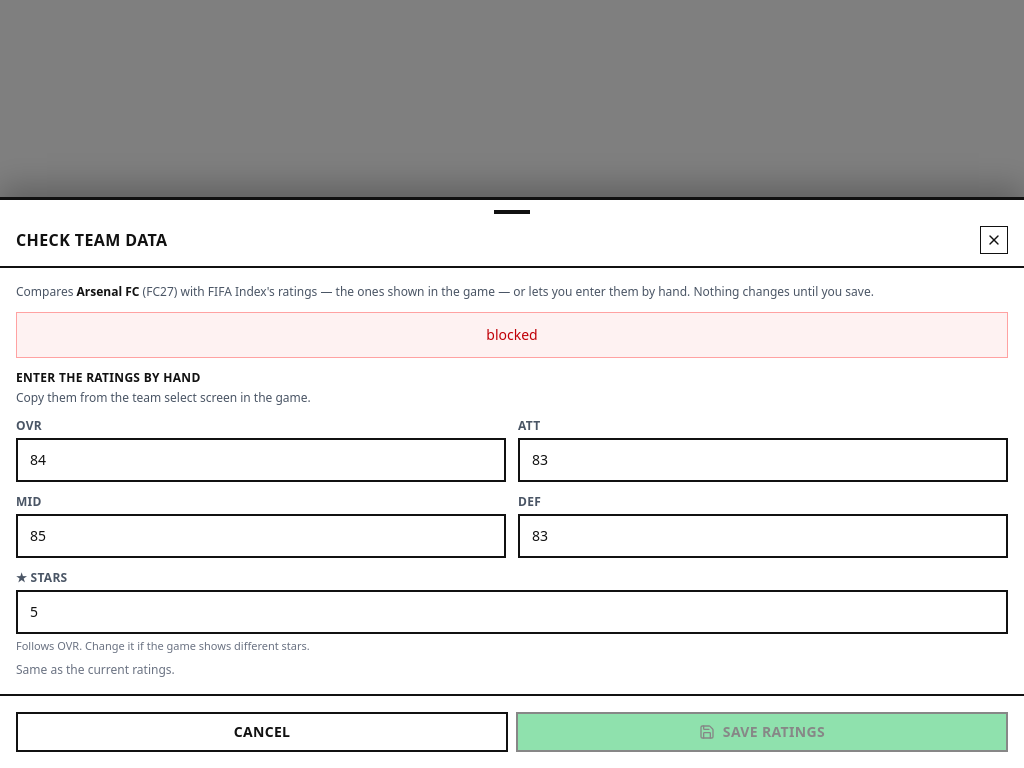
Scenario: TeamDataCheckSheet › rejects ratings outside 0-99
The width and height of the screenshot is (1024, 768).
Replace the text in the number field labelled "ATT" with "120" at (763, 460), box [518, 438, 1008, 482]
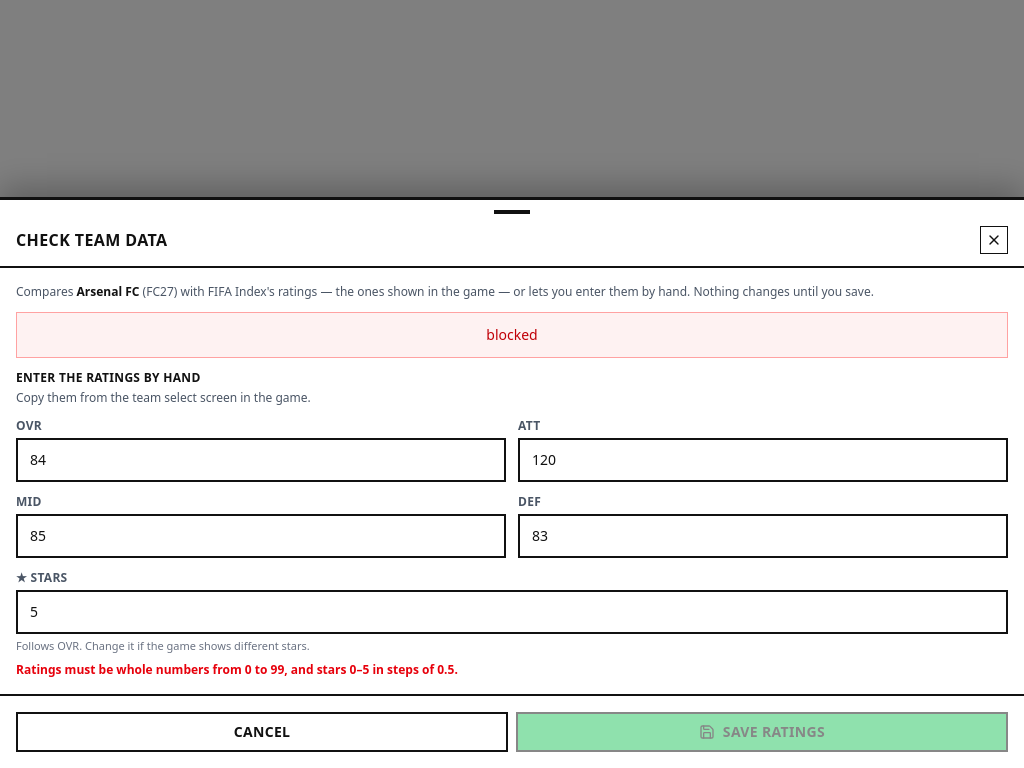
Expected: the button "Save ratings" is disabled, [516, 712, 1008, 752]
Result: the text "Ratings must be whole numbers from 0 to 99, and stars 0–5 in steps of 0.5." is shown at [16, 661, 458, 678]
